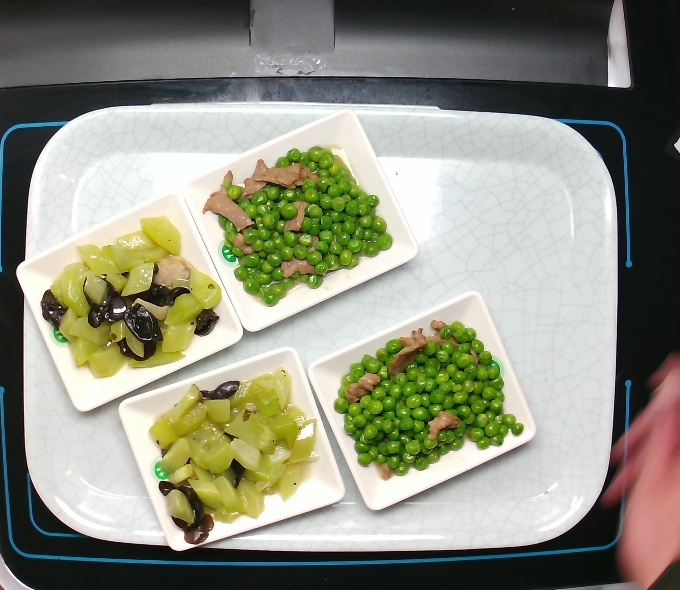wcq-CanDouRouSi: (194, 134, 399, 321), (332, 315, 535, 497)
wcq-WoSunKuai: (38, 199, 229, 397), (146, 372, 320, 554)
